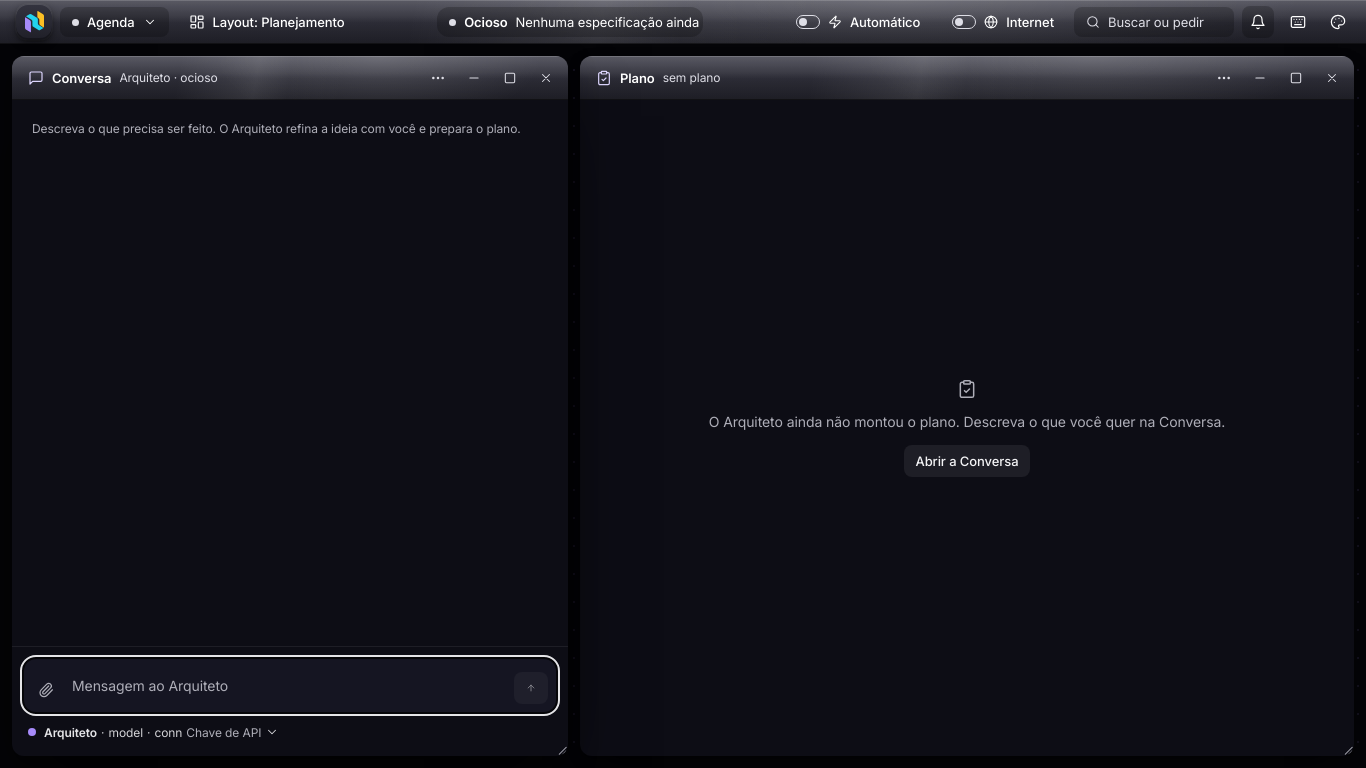
Test: seletor no @ › abre com o filtro sem acento, na ordem, com ícone, título e origem; a primeira opção destacada
Type "siga os @PADROES" into the text box named "Mensagem para o Arquiteto".
click(287, 686); type("siga os @PADROES")  # box [68, 667, 506, 704]
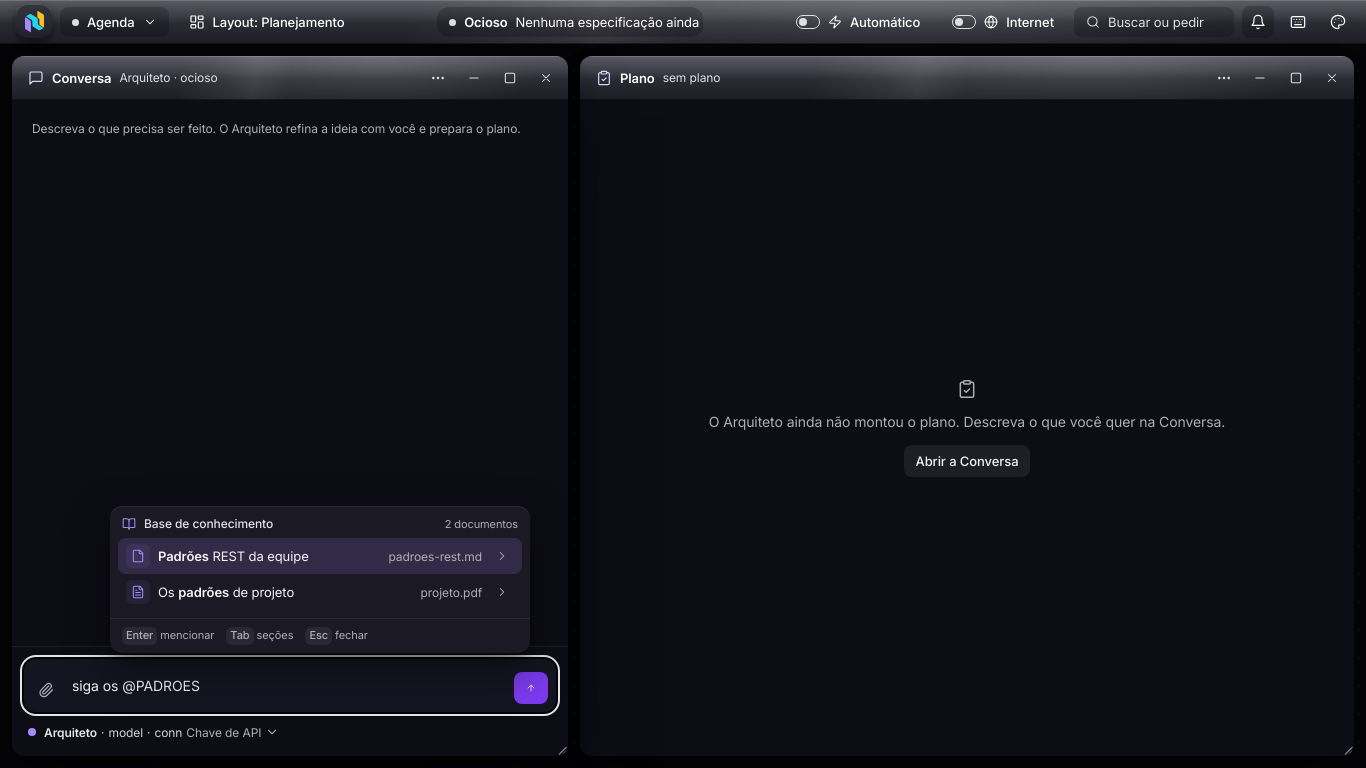
Expected: the text with class "nd-kb-picker-hit" reads "Padrões", [158, 548, 209, 564]
Expected: the text with class "nd-kb-picker-origin" reads "padroes-rest.md", [388, 549, 482, 564]
Expected: the element with class "nd-kb-picker-title" reads "Padrões REST da equipe", [158, 546, 309, 566]
